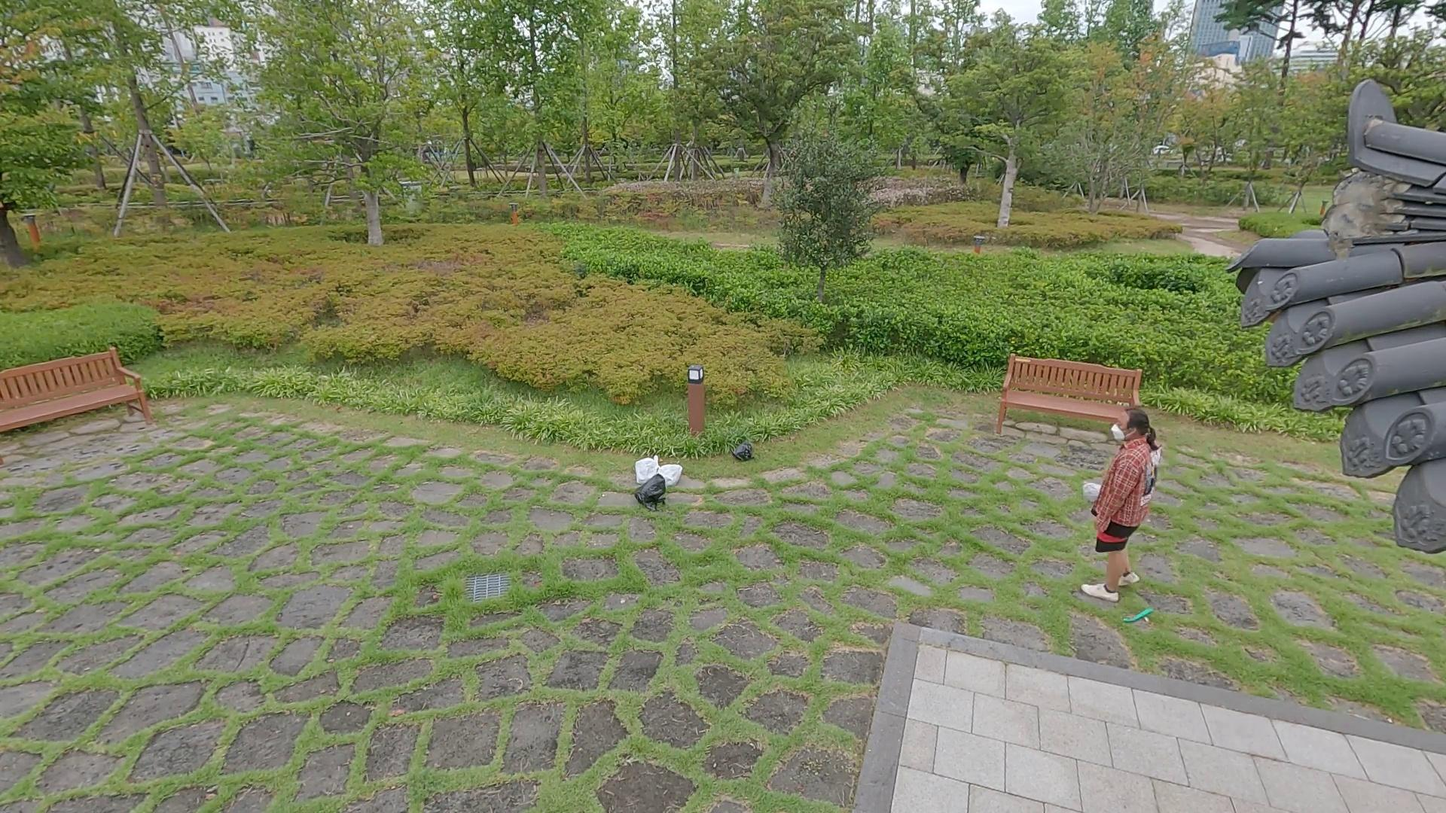person: (1075, 403, 1165, 601)
trash: (631, 449, 662, 489), (635, 473, 666, 507), (651, 458, 685, 489), (727, 435, 757, 464), (1077, 478, 1101, 508)
